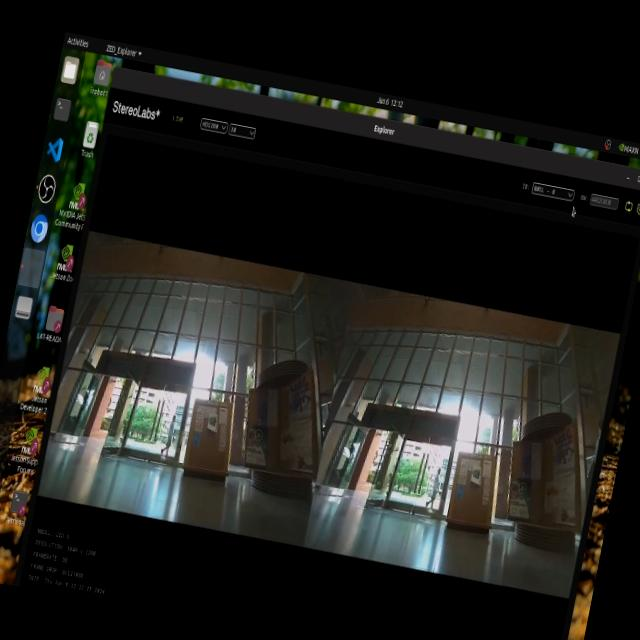green: (466, 460, 484, 490), (204, 412, 222, 432)
